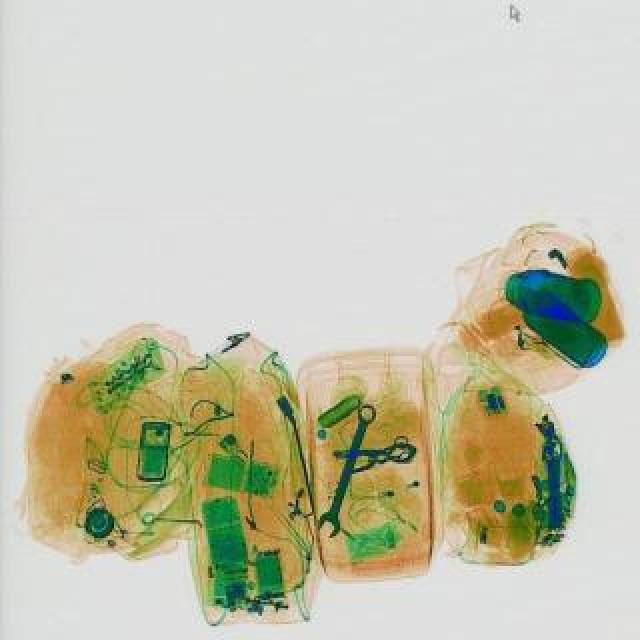scissors: (312, 400, 378, 536)
